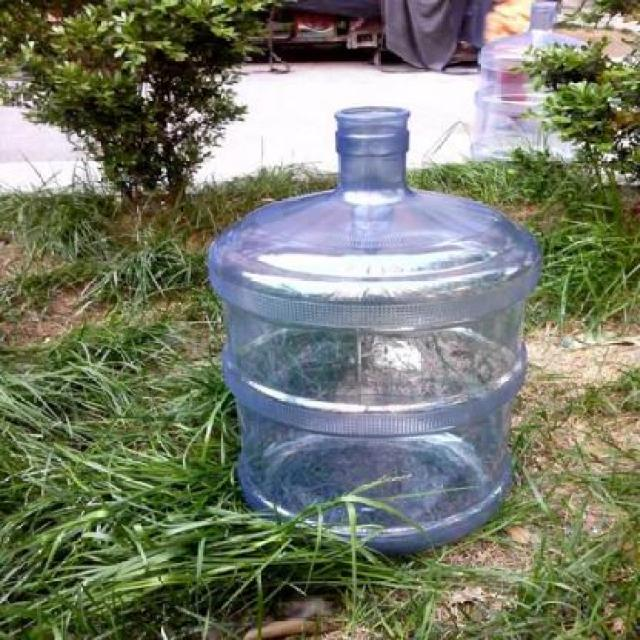coolerbottle: (205, 103, 540, 556)
